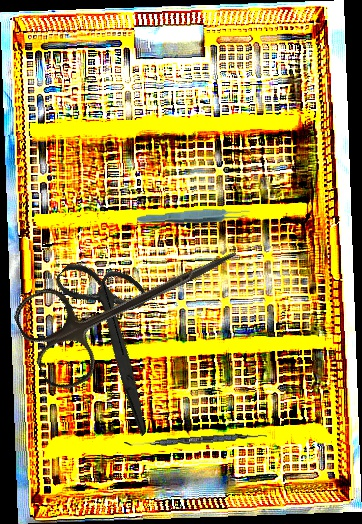Iris Scissors: (8, 203, 257, 398), (13, 240, 217, 437)
Spatula Surgical: (123, 429, 268, 451)
Tissue Forceps: (136, 207, 251, 227)
